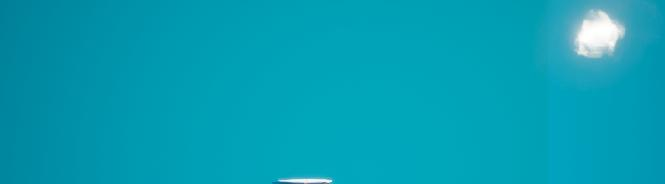land_base: (558, 0, 637, 69)
